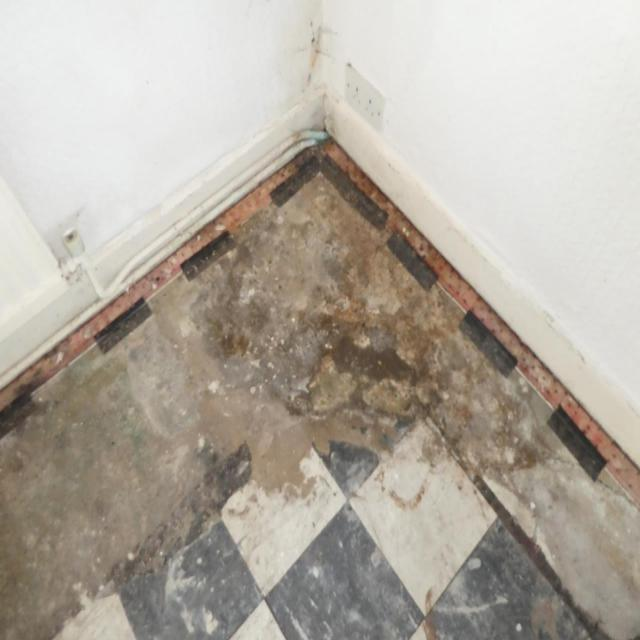damp: (0, 84, 626, 639)
